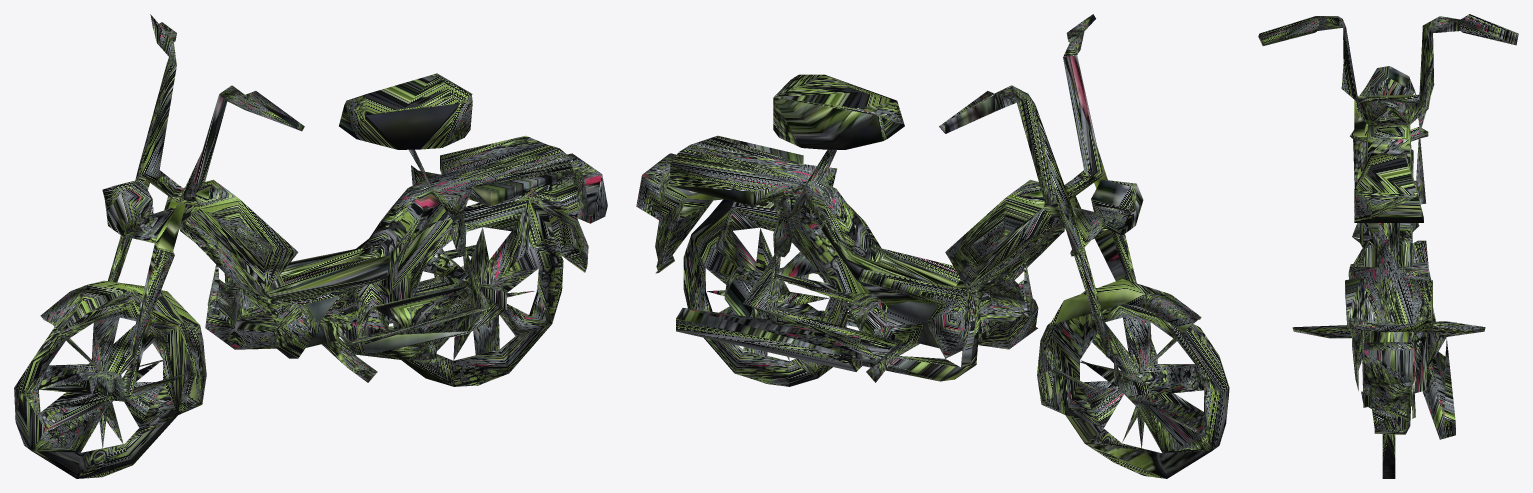
Rendered from moped.lod.glb.
The picture shows the model from 3 angles, left to right: view 1: azimuth 30°, elevation 25°; view 2: azimuth 150°, elevation 25°; view 3: azimuth 270°, elevation 25°; orthographic projection. The views are drawn at different scales.
Parts seen in each view (by area): view 1: tripo_node_b1f79a2f-89d4-4f93-8c94-6657031f8534; view 2: tripo_node_b1f79a2f-89d4-4f93-8c94-6657031f8534; view 3: tripo_node_b1f79a2f-89d4-4f93-8c94-6657031f8534.
Boxes of the visible parts, x1,y1,x2,y2 form: tripo_node_b1f79a2f-89d4-4f93-8c94-6657031f8534: (14, 14, 607, 478); tripo_node_b1f79a2f-89d4-4f93-8c94-6657031f8534: (636, 14, 1229, 478); tripo_node_b1f79a2f-89d4-4f93-8c94-6657031f8534: (1258, 14, 1518, 478).
Size of the model in its own units: 1.8 by 1.16 by 0.8032.
Materials: 1 (1 with a texture image).
